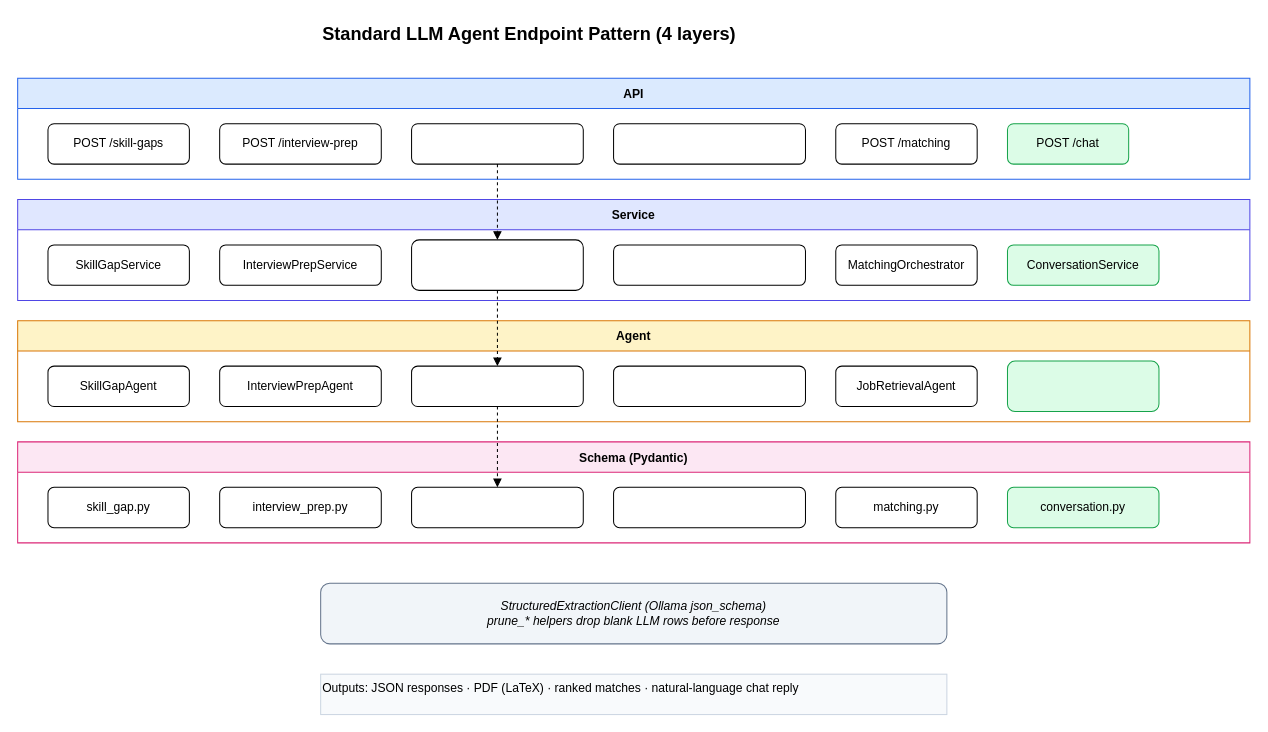
Some shapes in this 1268 by 732 pixel diagram are drawn without their labels. Here are the shapes that lost their labels. From the top down, the centre of each, then its label:
pixel 497 143: POST /resume-tailoring
pixel 709 143: POST /cover-letter-tailoring
pixel 497 264: ResumeTailoringService (merge + pdflatex)
pixel 709 264: CoverLetterTailoringService
pixel 497 386: ResumeTailoringAgent
pixel 709 386: CoverLetterTailoringAgent
pixel 1082 386: CareerAgent (LangGraph 3-node)
pixel 497 507: resume_tailoring.py
pixel 709 507: cover_letter_tailoring.py
